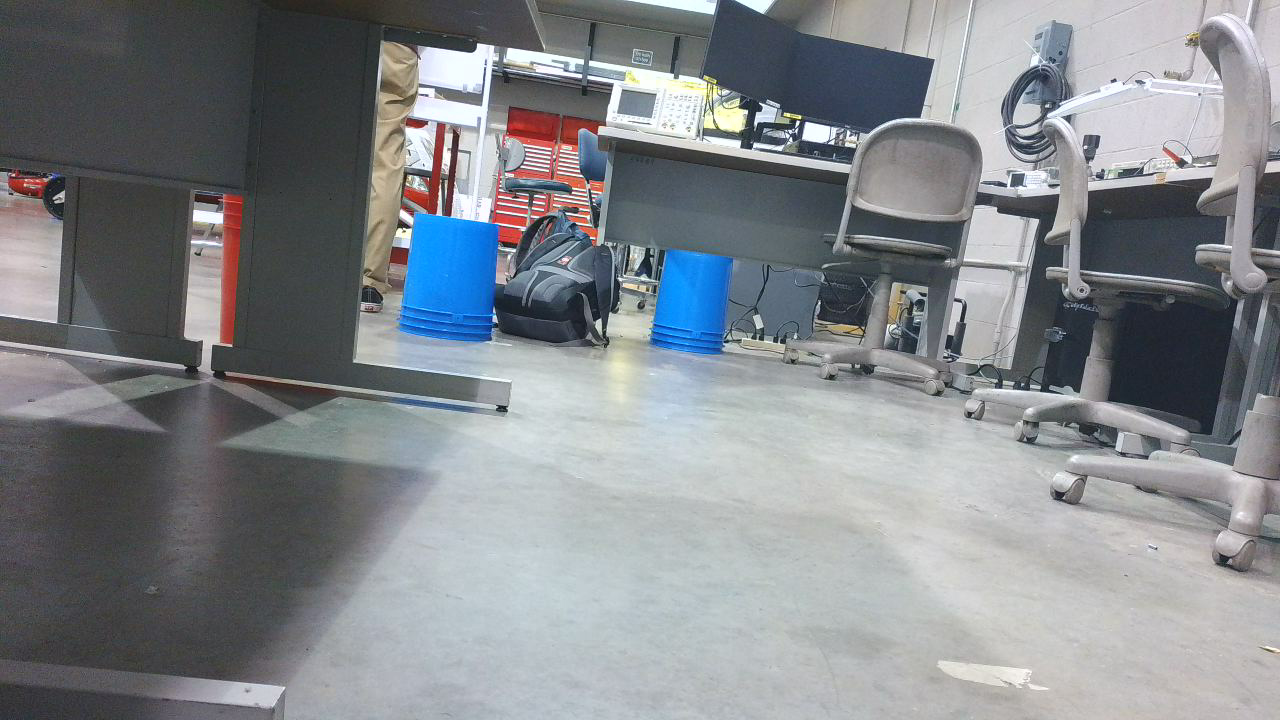blue_bucket: (402, 216, 506, 349), (653, 251, 741, 361)
